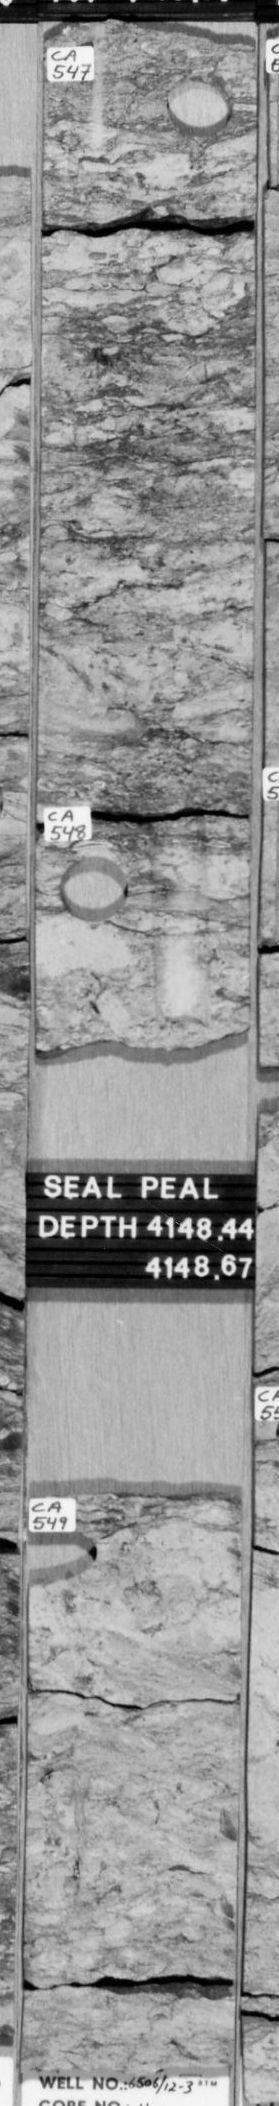hplug: (30, 1511, 115, 1592), (54, 846, 135, 928), (161, 67, 239, 138)
vplug: (141, 821, 225, 1029), (76, 20, 123, 142)
